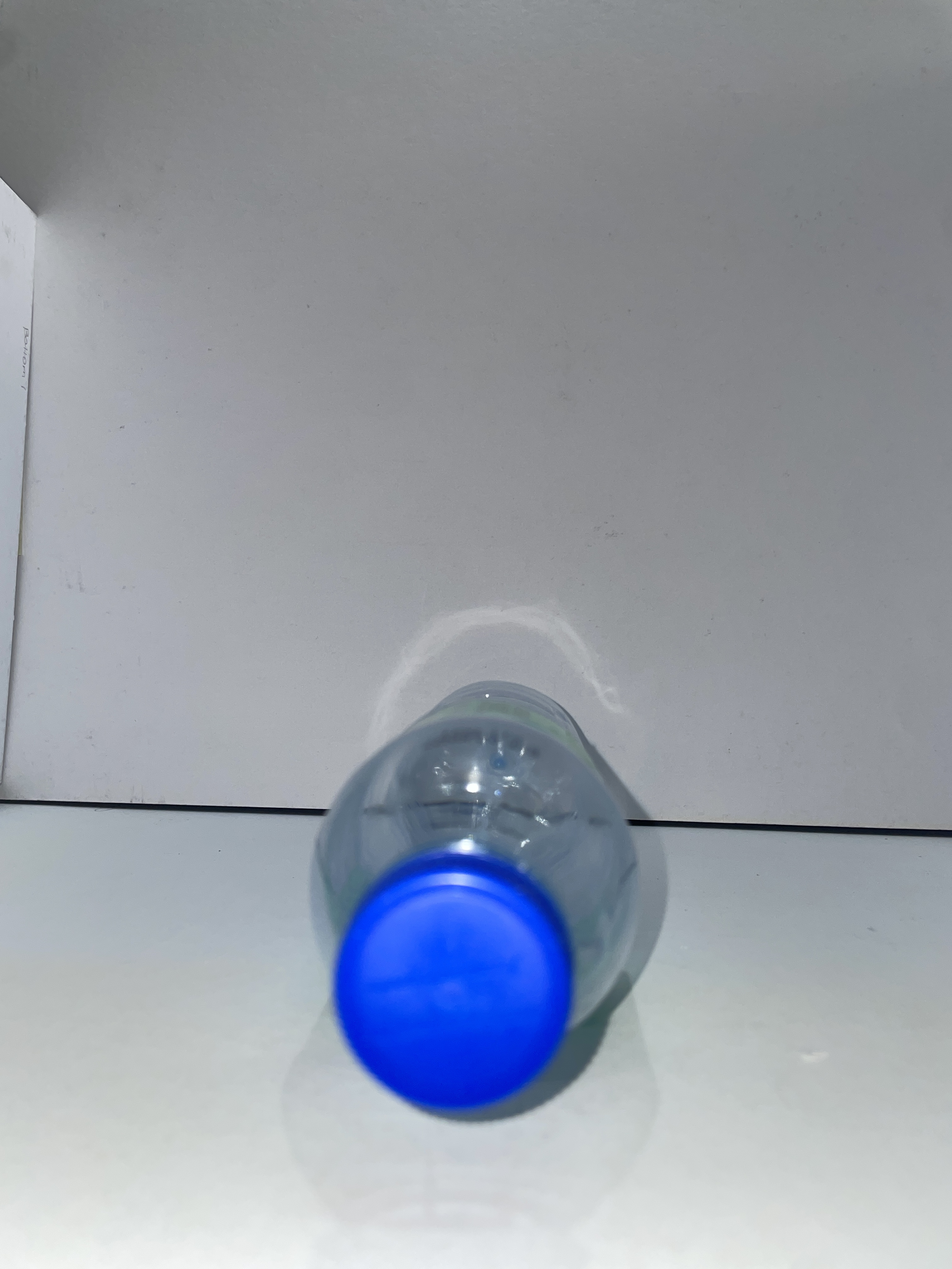wilkins pure 500ml: (312, 682, 636, 1110)
